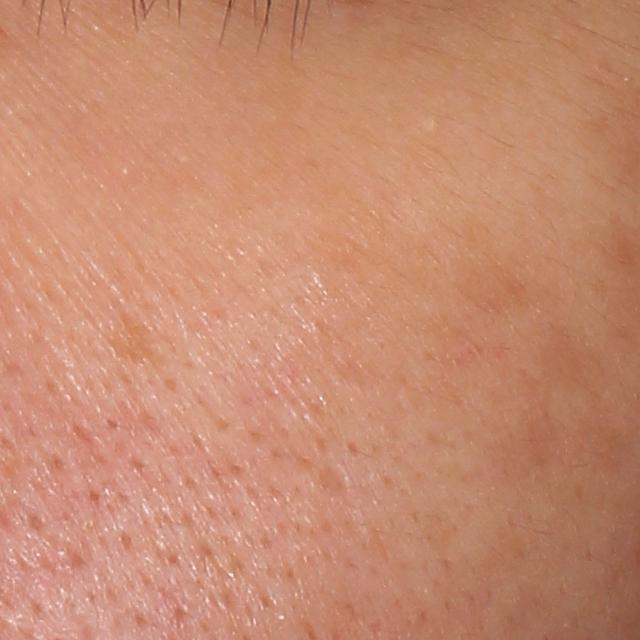atrophic_scar: (317, 467, 352, 501)
comedo: (423, 116, 441, 133)
